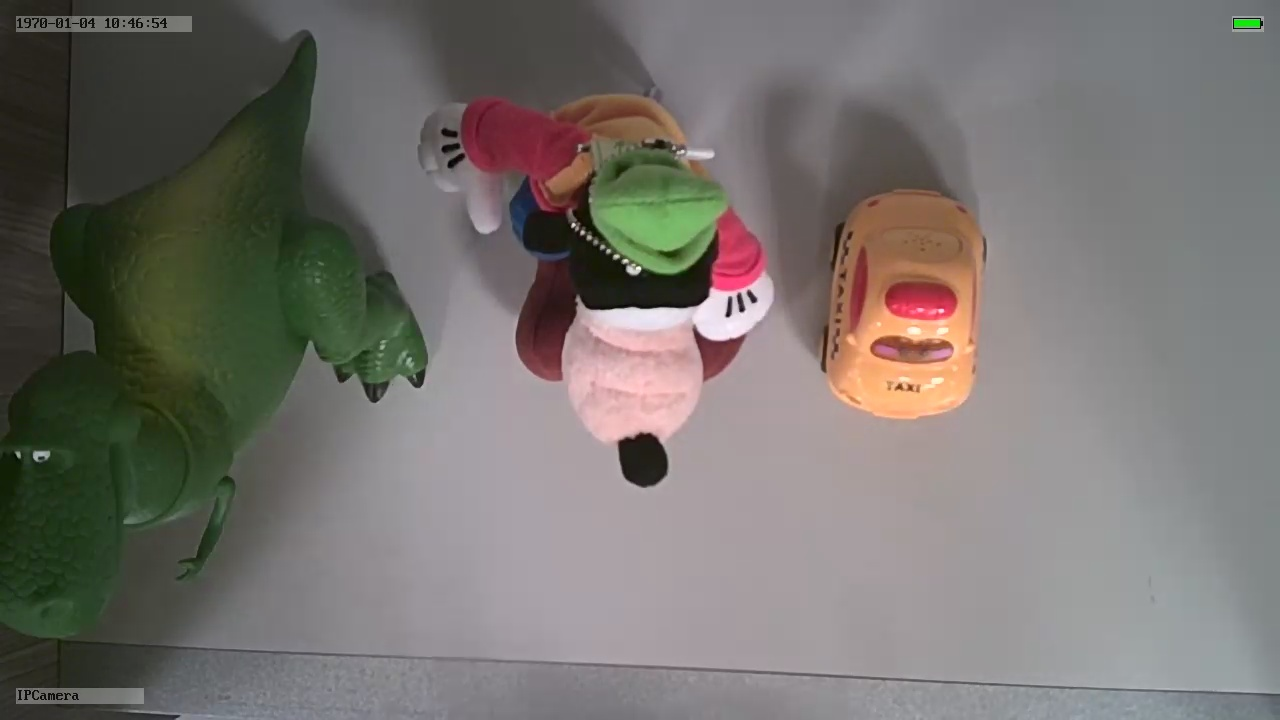car: (813, 184, 992, 423)
goofy: (412, 90, 775, 494)
rex: (1, 135, 424, 641)
